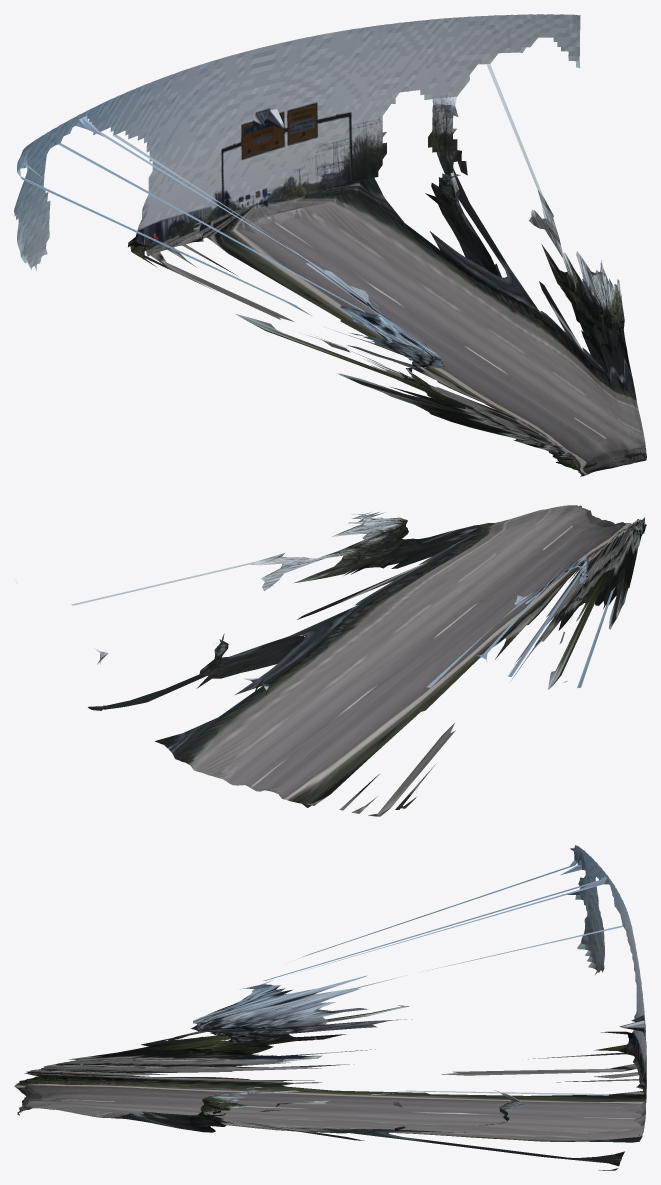
The picture shows the model from 3 angles, top to bottom: view 1: azimuth 30°, elevation 25°; view 2: azimuth 150°, elevation 25°; view 3: azimuth 270°, elevation 25°; orthographic projection. The views are drawn at different scales.
Parts seen in each view (by area): view 1: defaultobject; view 2: defaultobject; view 3: defaultobject.
Part boxes in pixels (x1,y1,x2,y2): defaultobject: [14, 14, 646, 476]; defaultobject: [16, 505, 646, 816]; defaultobject: [14, 845, 646, 1170].
Bounding box in the file's own units: 40.78 × 12.83 × 44.65.
1 material, 1 textured.
